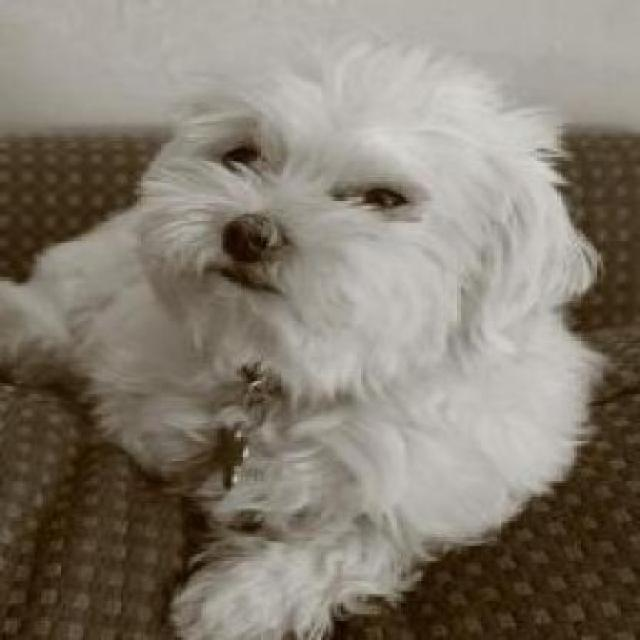Dog: (0, 17, 620, 637)
